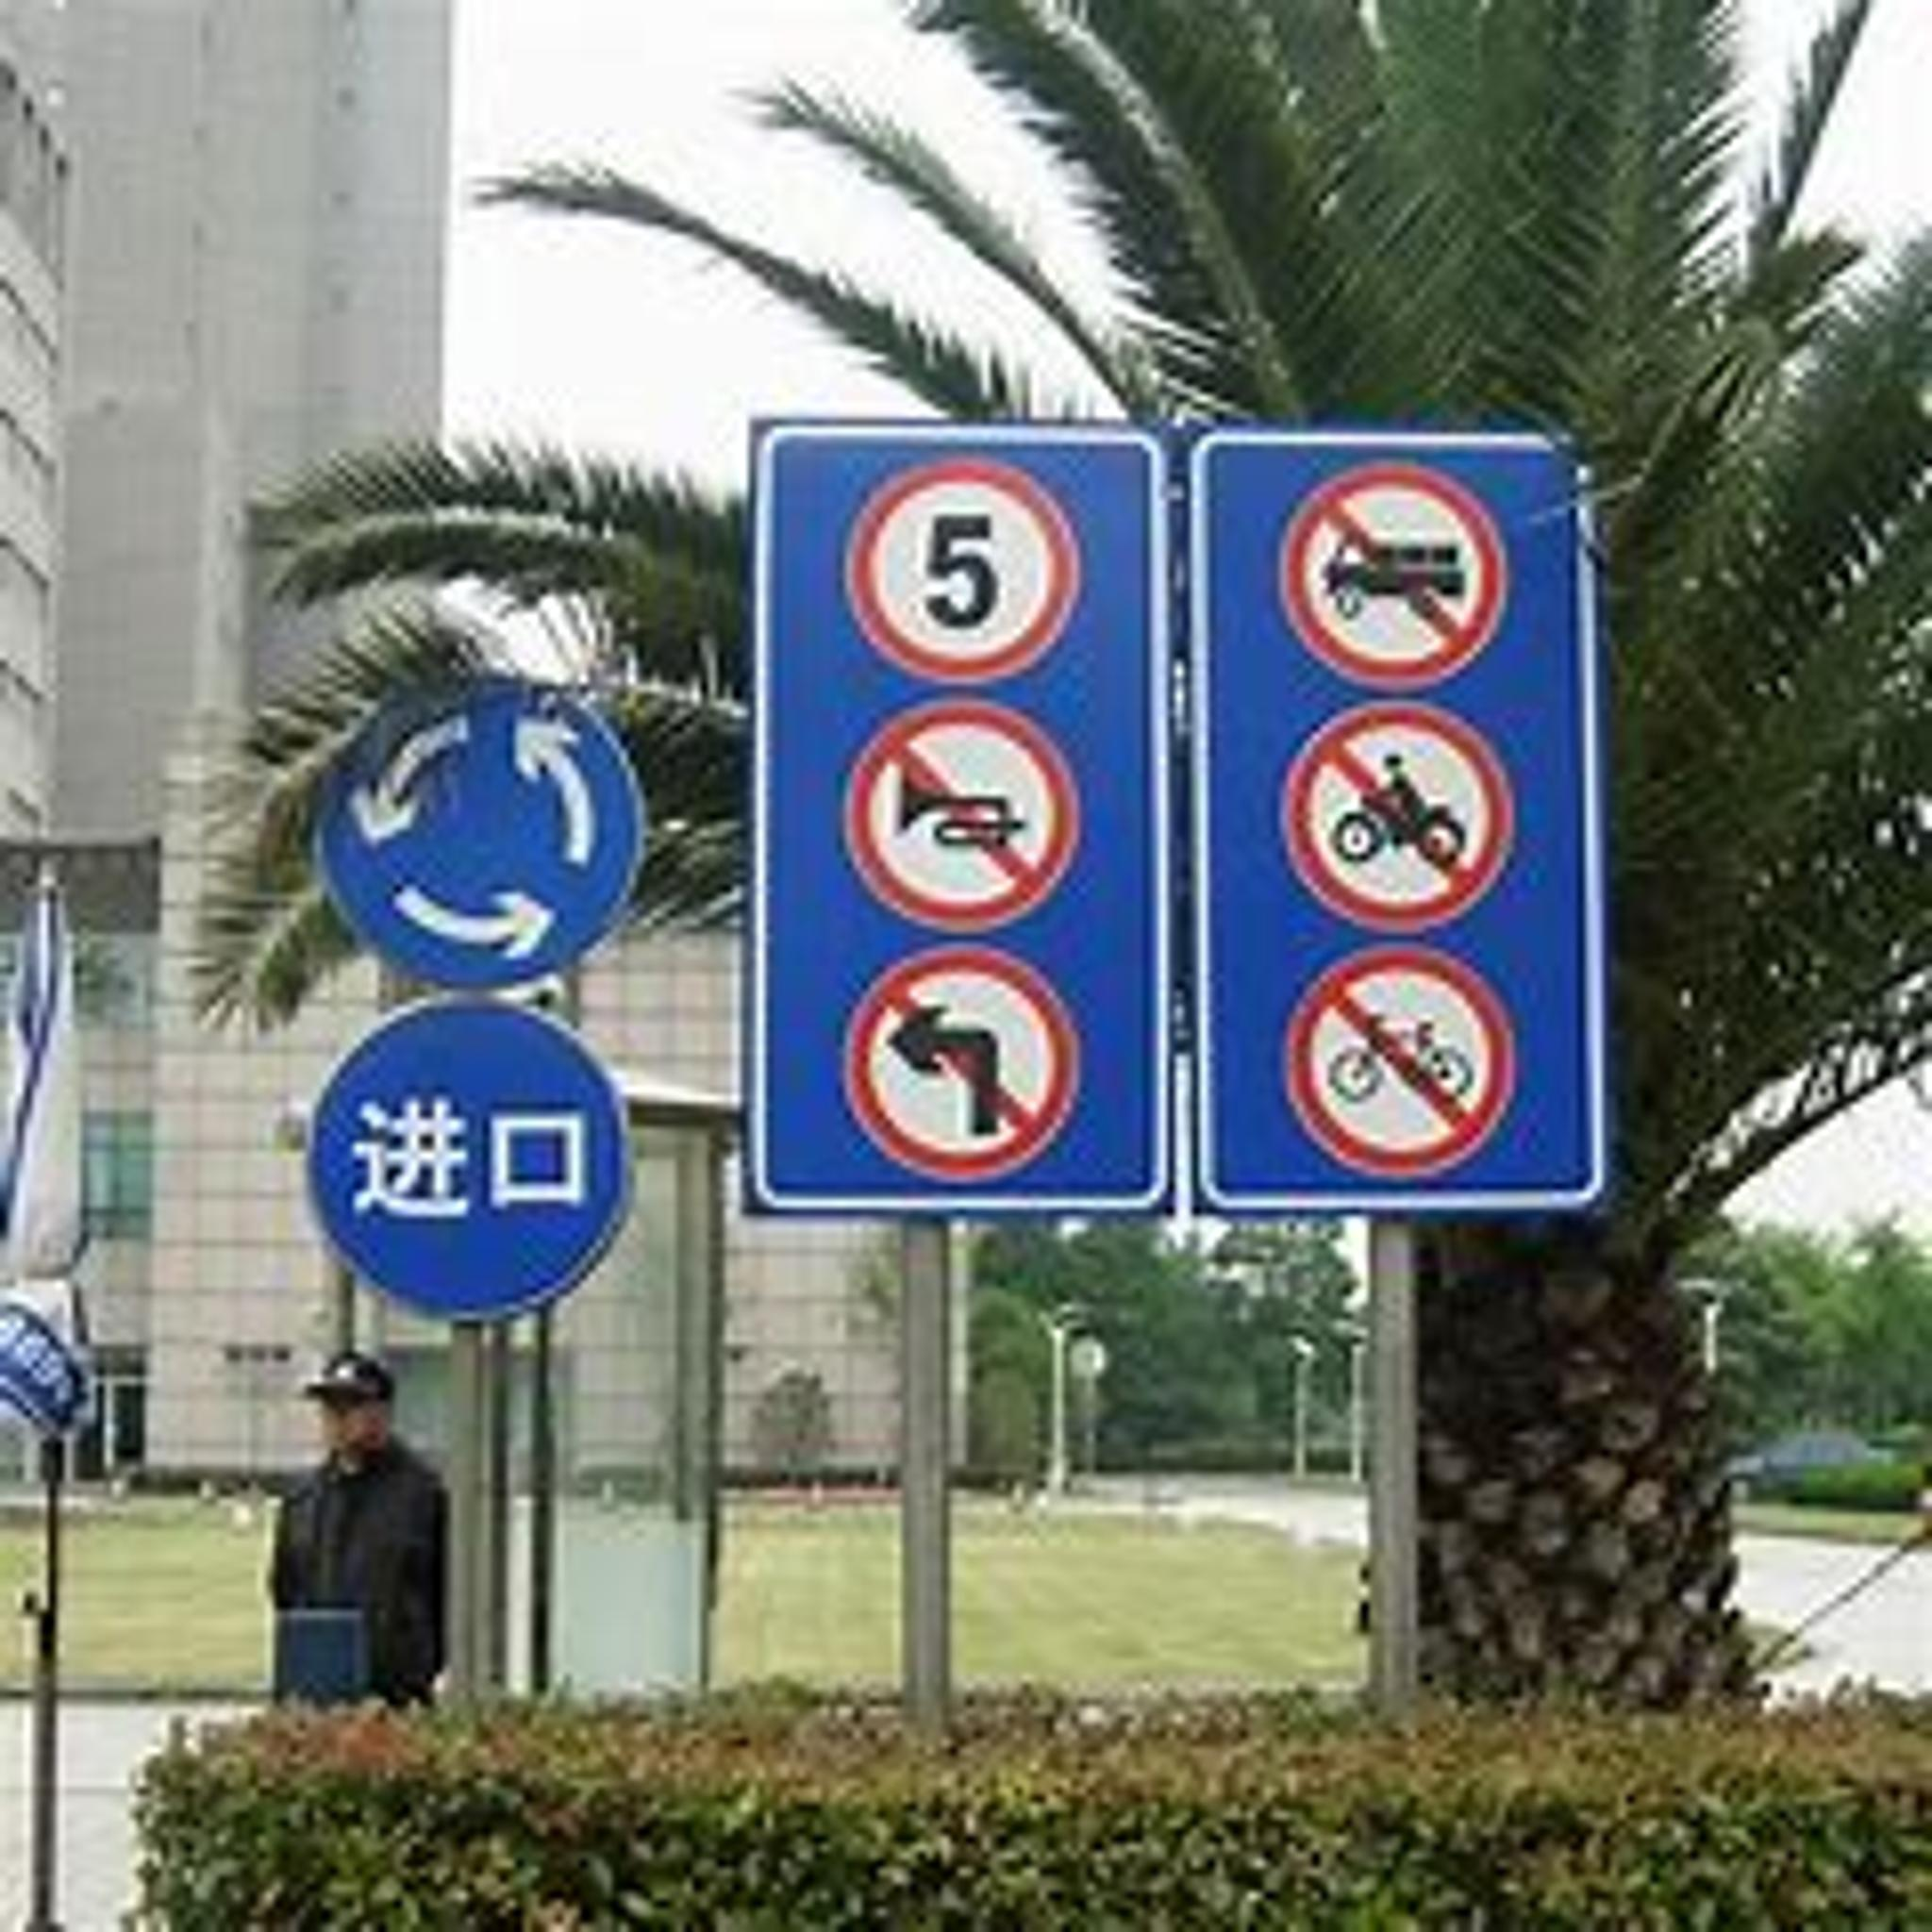p11: (855, 701, 1056, 922)
p23: (835, 950, 1077, 1177)
p26: (1283, 464, 1491, 690)
pl5: (849, 471, 1079, 692)
